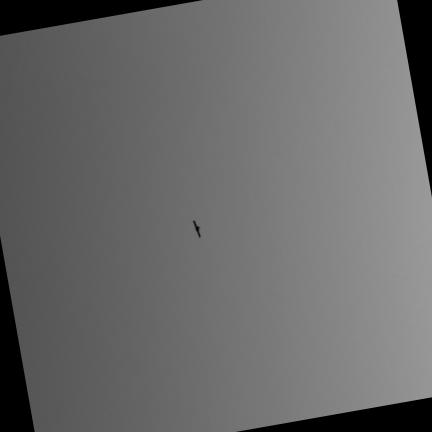Shahed: (193, 220, 200, 237)
